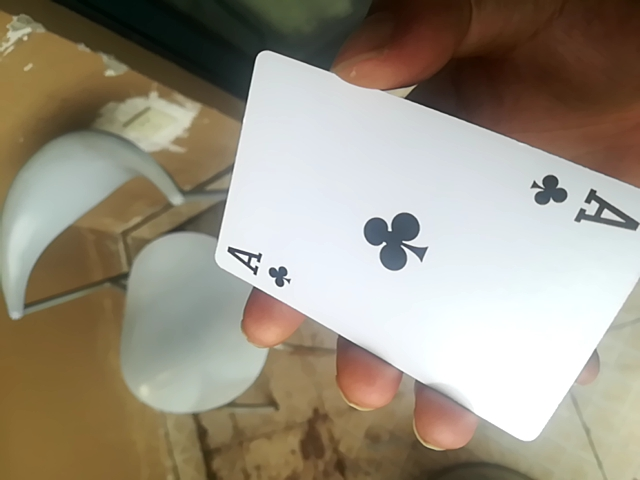mh a: (213, 41, 640, 443)
